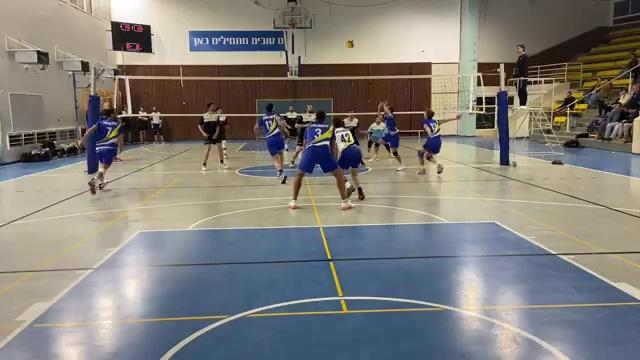ball: (346, 39, 355, 50)
